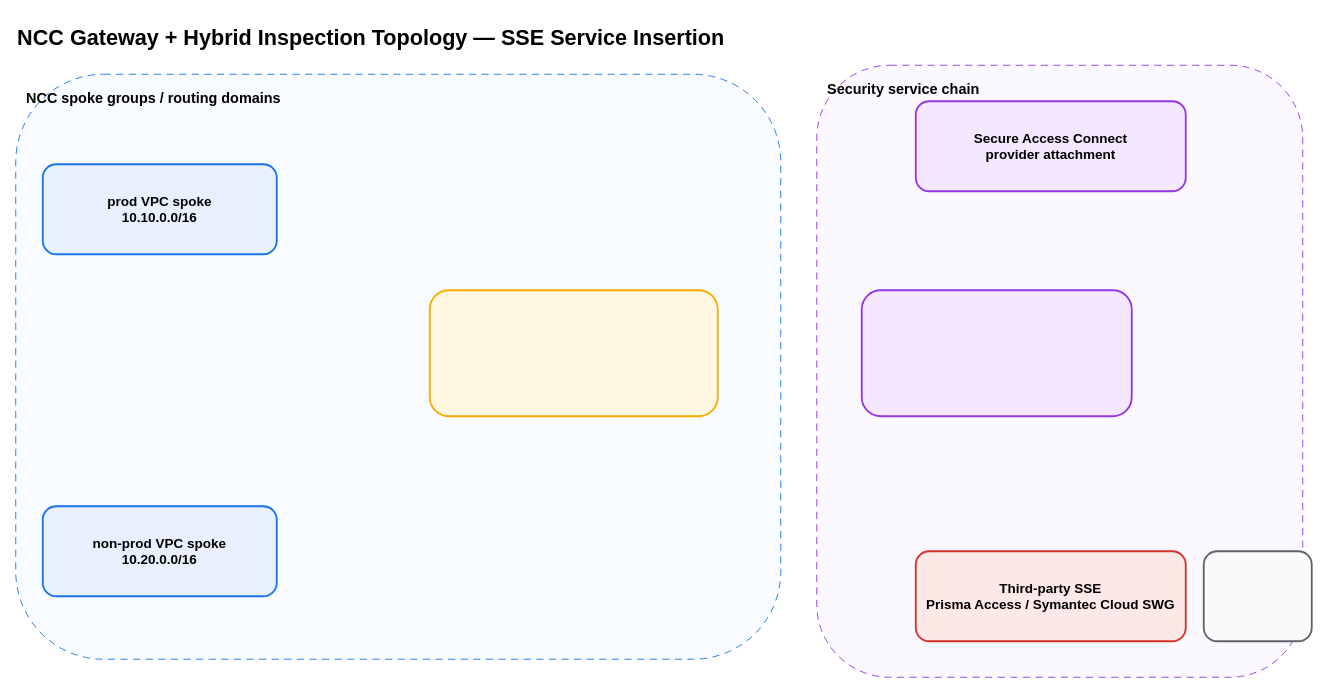
This 1328x693 diagram has some shape labels left out. The shapes that lost their labels are listed below. From the top down, each one's centre as x and y in pixels, then its label:
At pixel 573 353: "NCC Hub Hybrid inspection topology prod / non-prod / services / gateways".
At pixel 996 353: "NCC Gateway spoke regional security checkpoint Gateway advertised routes".
At pixel 1257 596: "Internet / SaaS".
